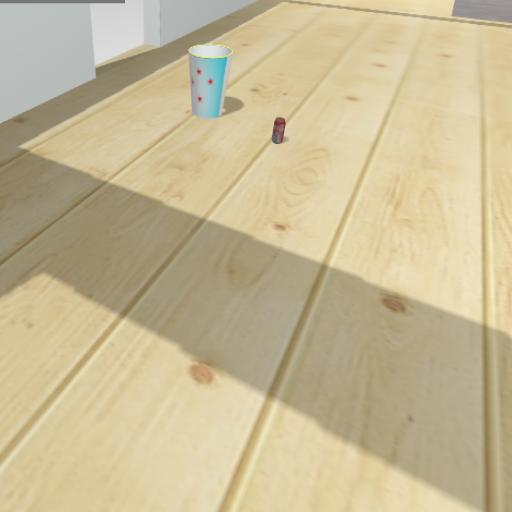COCA: (256, 100, 300, 174)
Trash: (154, 24, 258, 143)
